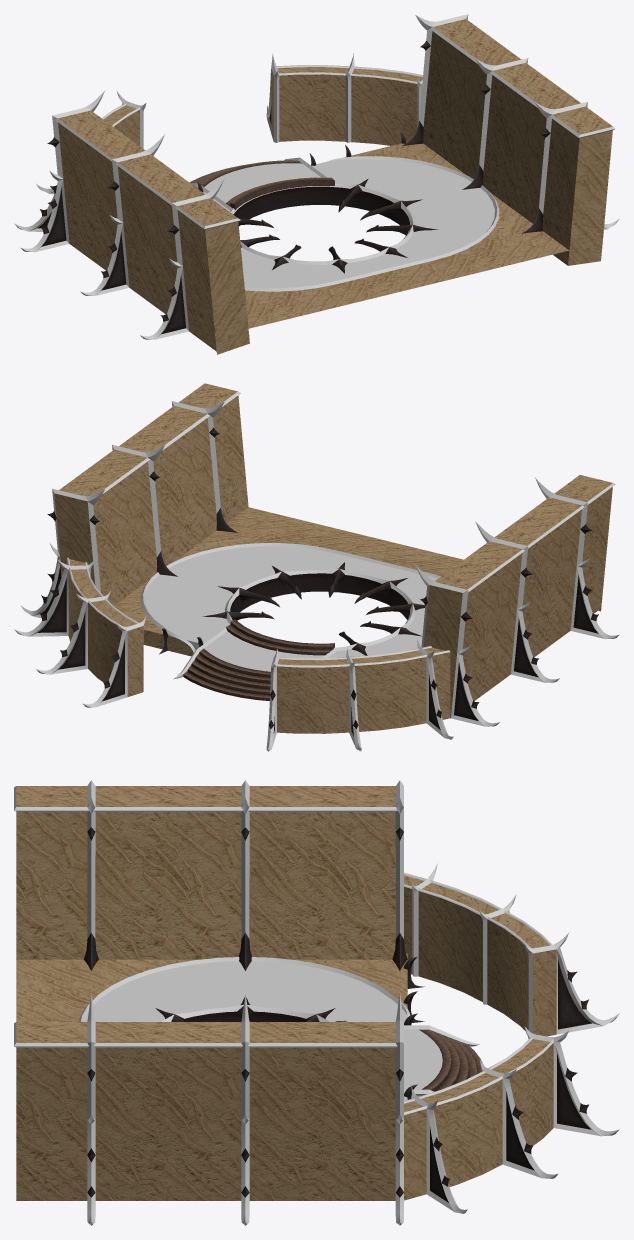
Rendered from lower_city_lift_01.fbx.
3 views of the same model, one above another, from view 1: azimuth 30°, elevation 25°; view 2: azimuth 150°, elevation 25°; view 3: azimuth 270°, elevation 25° (orthographic). The views are drawn at different scales.
Visible parts, largest first — view 1: lower_city_lift_01_wall, lower_city_lift_01_main_platform; view 2: lower_city_lift_01_wall, lower_city_lift_01_main_platform; view 3: lower_city_lift_01_wall, lower_city_lift_01_main_platform.
Boxes of the visible parts, bbox=[...] form: lower_city_lift_01_wall: bbox=[14, 14, 619, 354]; lower_city_lift_01_main_platform: bbox=[189, 131, 568, 328]; lower_city_lift_01_wall: bbox=[14, 383, 619, 751]; lower_city_lift_01_main_platform: bbox=[114, 507, 463, 700]; lower_city_lift_01_wall: bbox=[14, 780, 619, 1225]; lower_city_lift_01_main_platform: bbox=[16, 953, 482, 1100].
Size of the model in its own units: 24.95 by 7.29 by 21.15.
